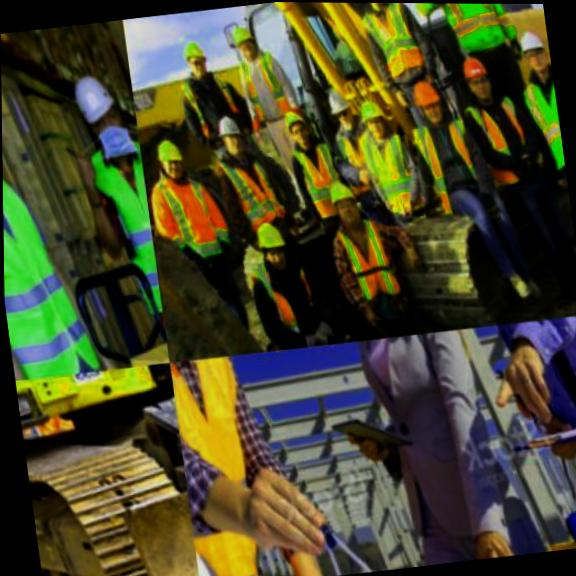safety_vest: (171, 346, 330, 576), (2, 161, 107, 380), (76, 137, 164, 333), (456, 86, 546, 201), (406, 110, 497, 222), (148, 176, 231, 278), (241, 250, 326, 349), (327, 216, 404, 317), (283, 133, 357, 235), (355, 127, 429, 228), (354, 3, 431, 93), (214, 151, 285, 243), (512, 65, 566, 180), (229, 50, 295, 134), (176, 71, 244, 150), (431, 3, 508, 69), (325, 122, 378, 188)
